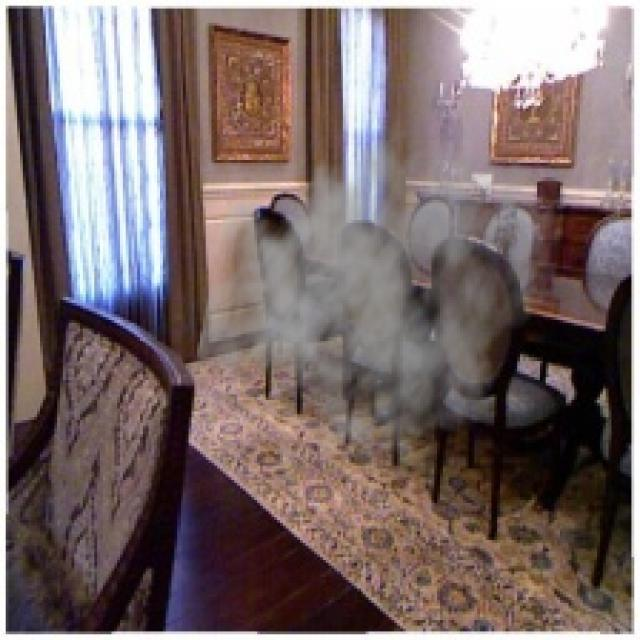Smoke: (191, 100, 563, 472)
